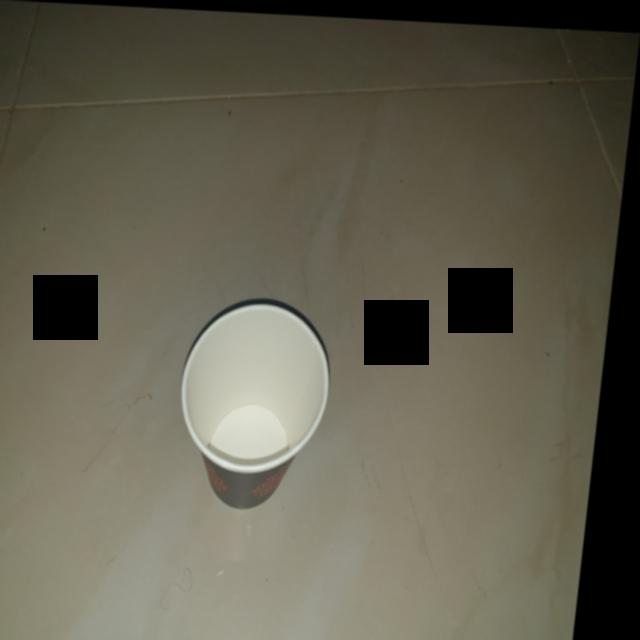cups: (177, 290, 351, 517)
